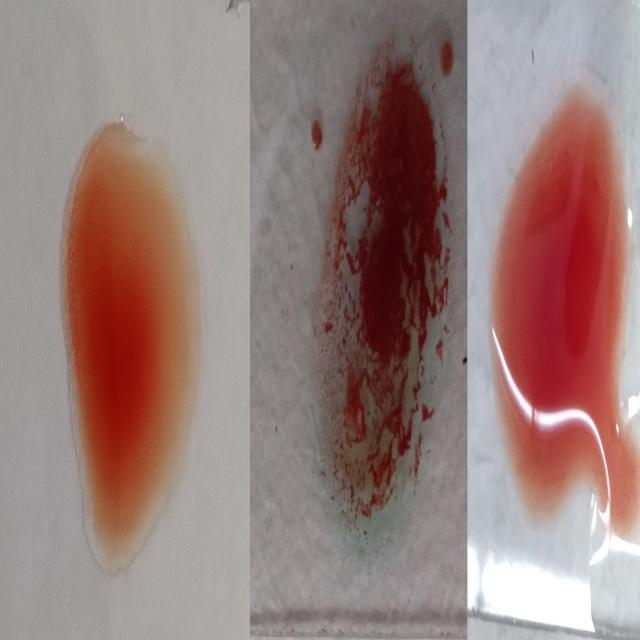A: (308, 48, 456, 543)
